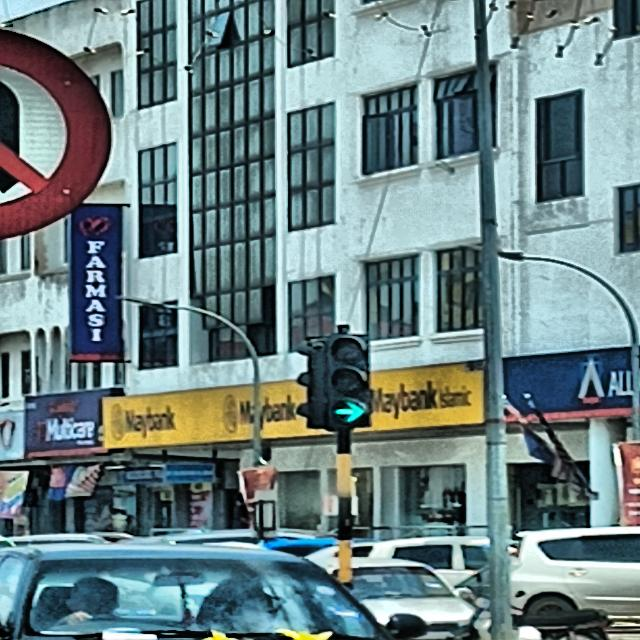green: (327, 332, 371, 428)
